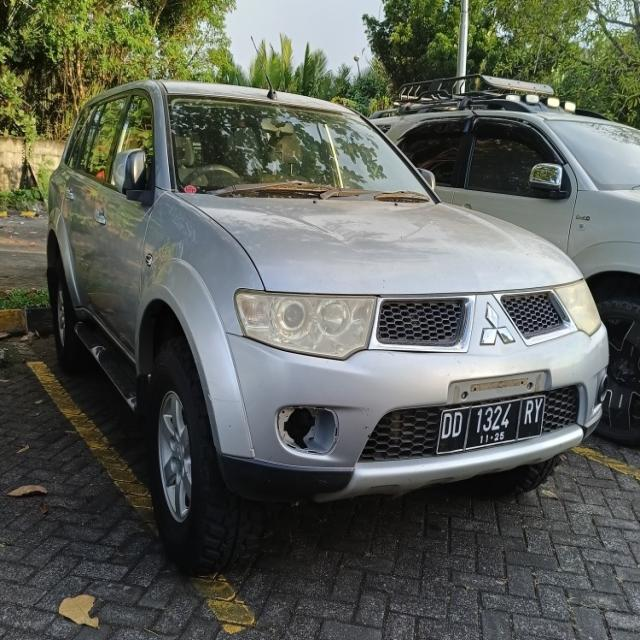plates: (441, 393, 542, 457)
